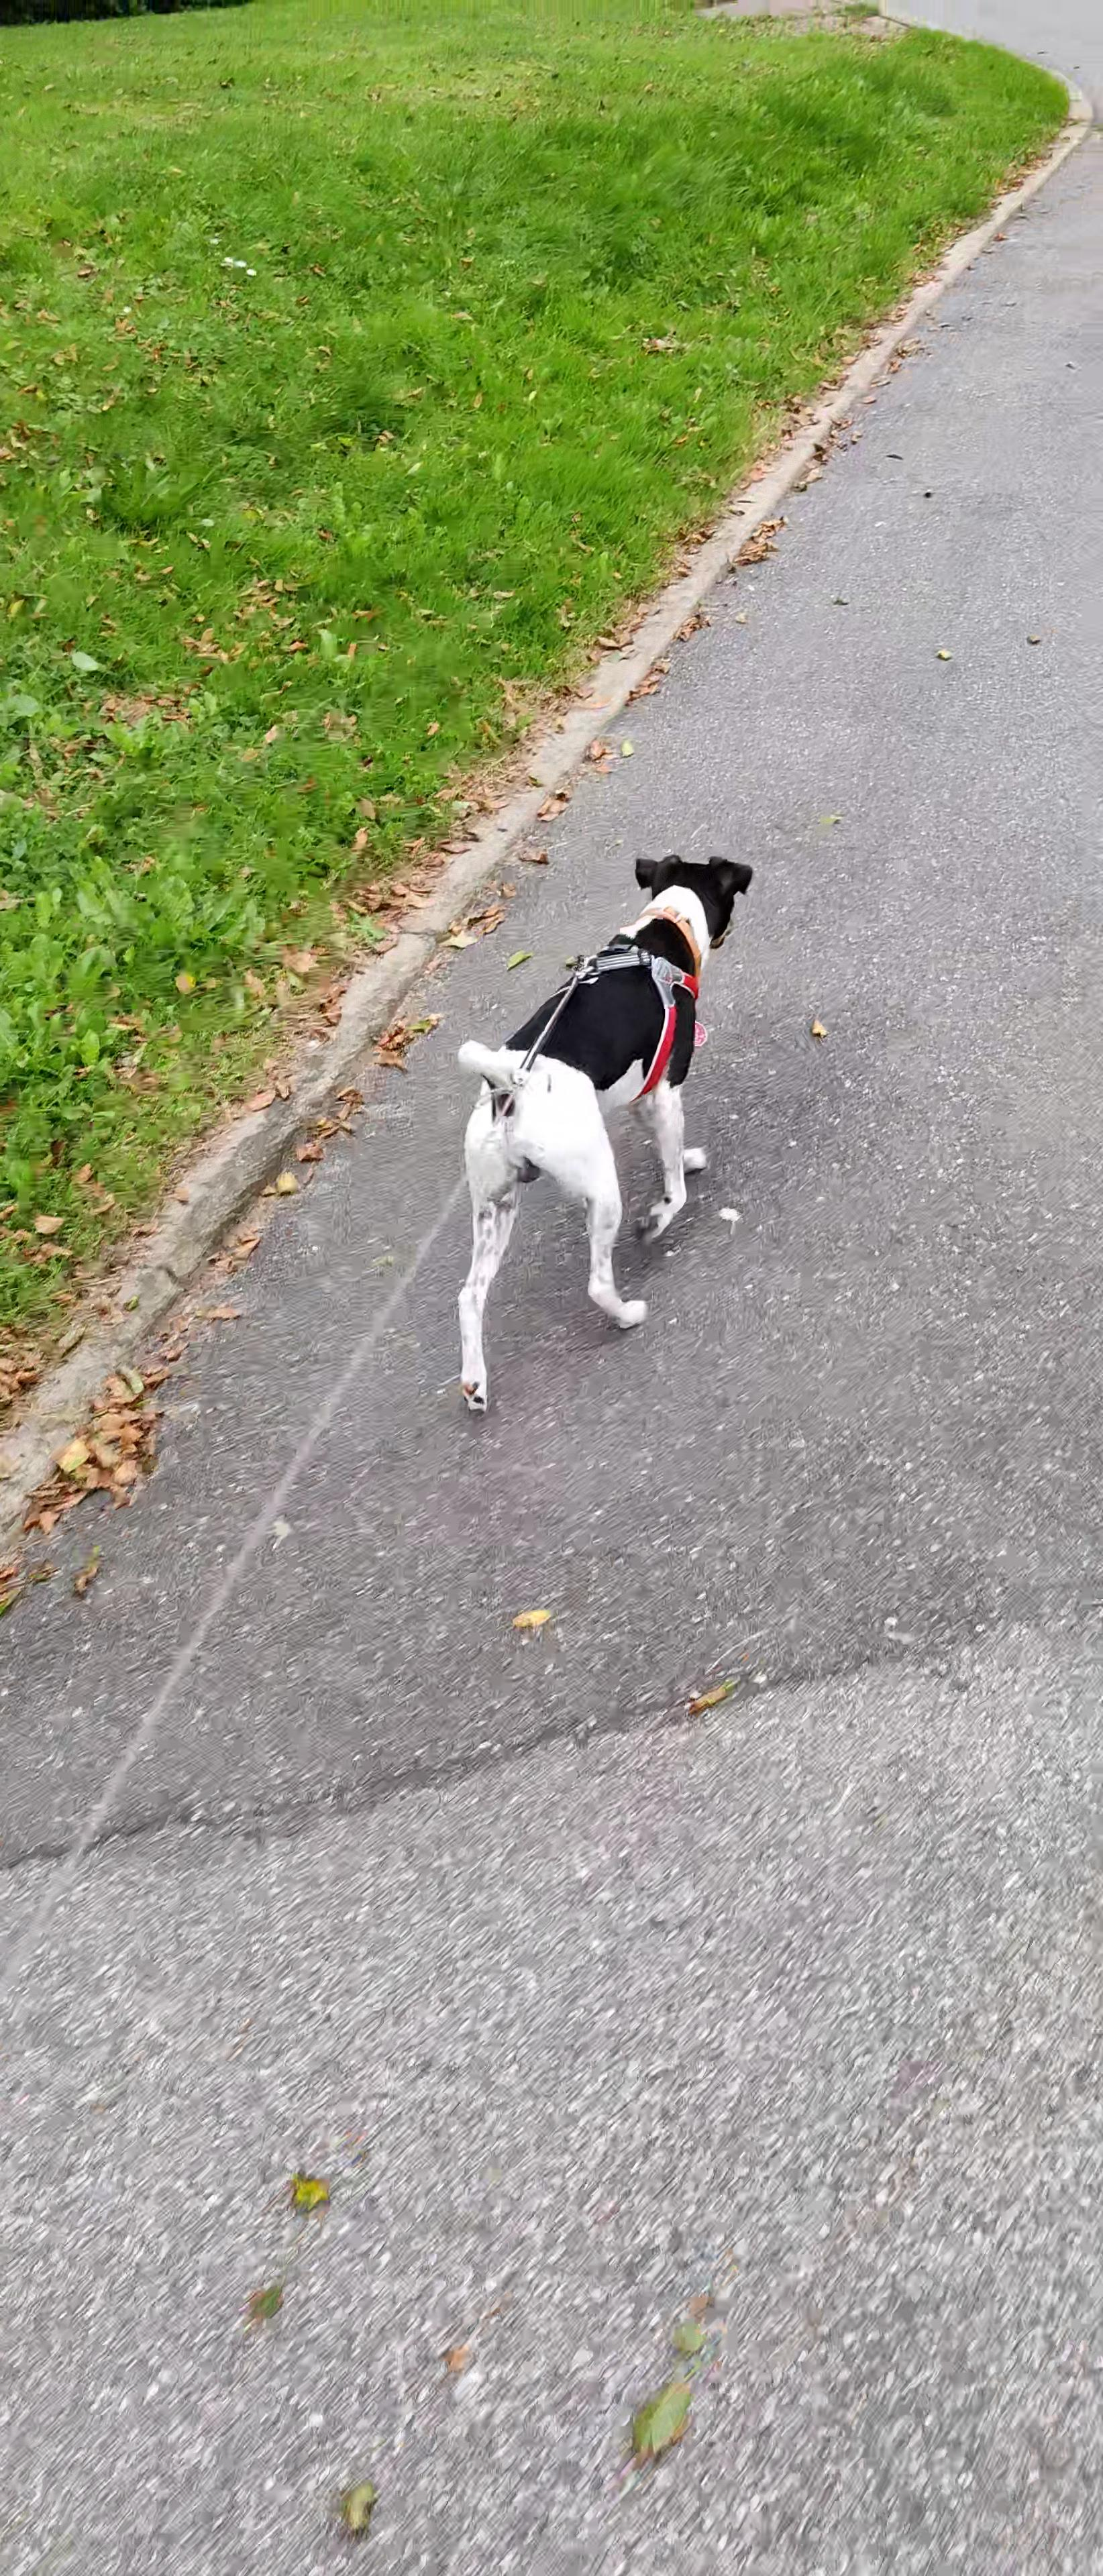Dog: (426, 843, 763, 1452)
